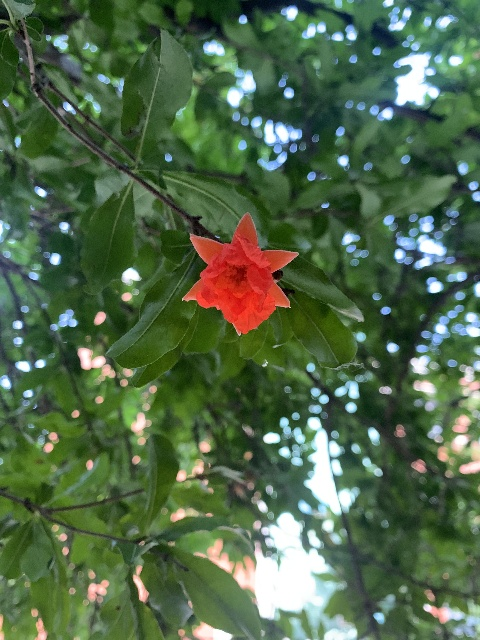flower: (182, 211, 298, 335)
